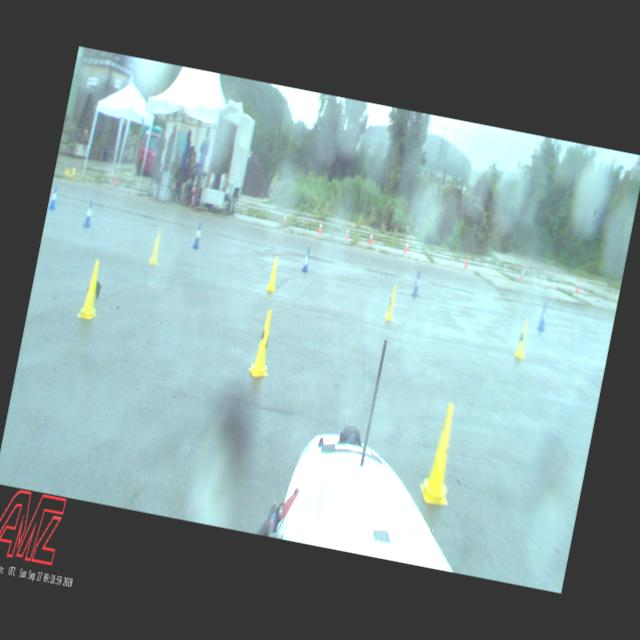blue_cone: (536, 299, 550, 332), (410, 270, 423, 299), (300, 246, 313, 274), (192, 223, 204, 249), (83, 200, 95, 226), (49, 185, 60, 211)
orange_cone: (317, 219, 324, 234), (368, 230, 374, 246), (464, 256, 470, 268), (404, 240, 409, 253), (346, 226, 350, 238)
yellow_cone: (416, 400, 466, 507), (247, 308, 280, 381), (77, 257, 107, 320), (514, 319, 531, 359), (148, 230, 164, 266), (384, 286, 399, 322), (265, 258, 280, 292)
